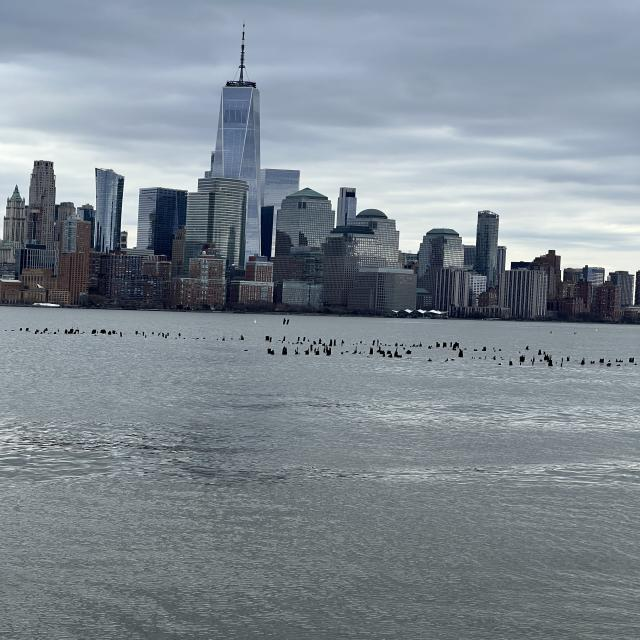WTC: (214, 20, 261, 180)
